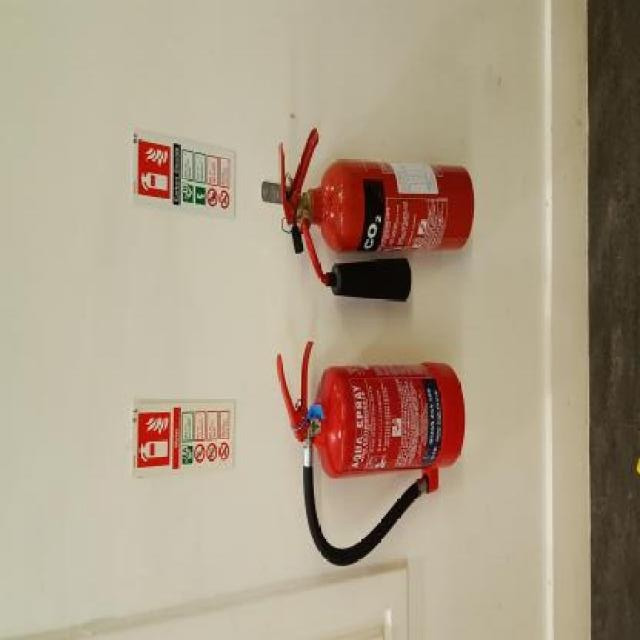fire extinguisher: (275, 332, 476, 572), (279, 126, 476, 305)
